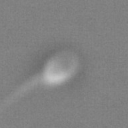normal: (1, 73, 44, 118)
